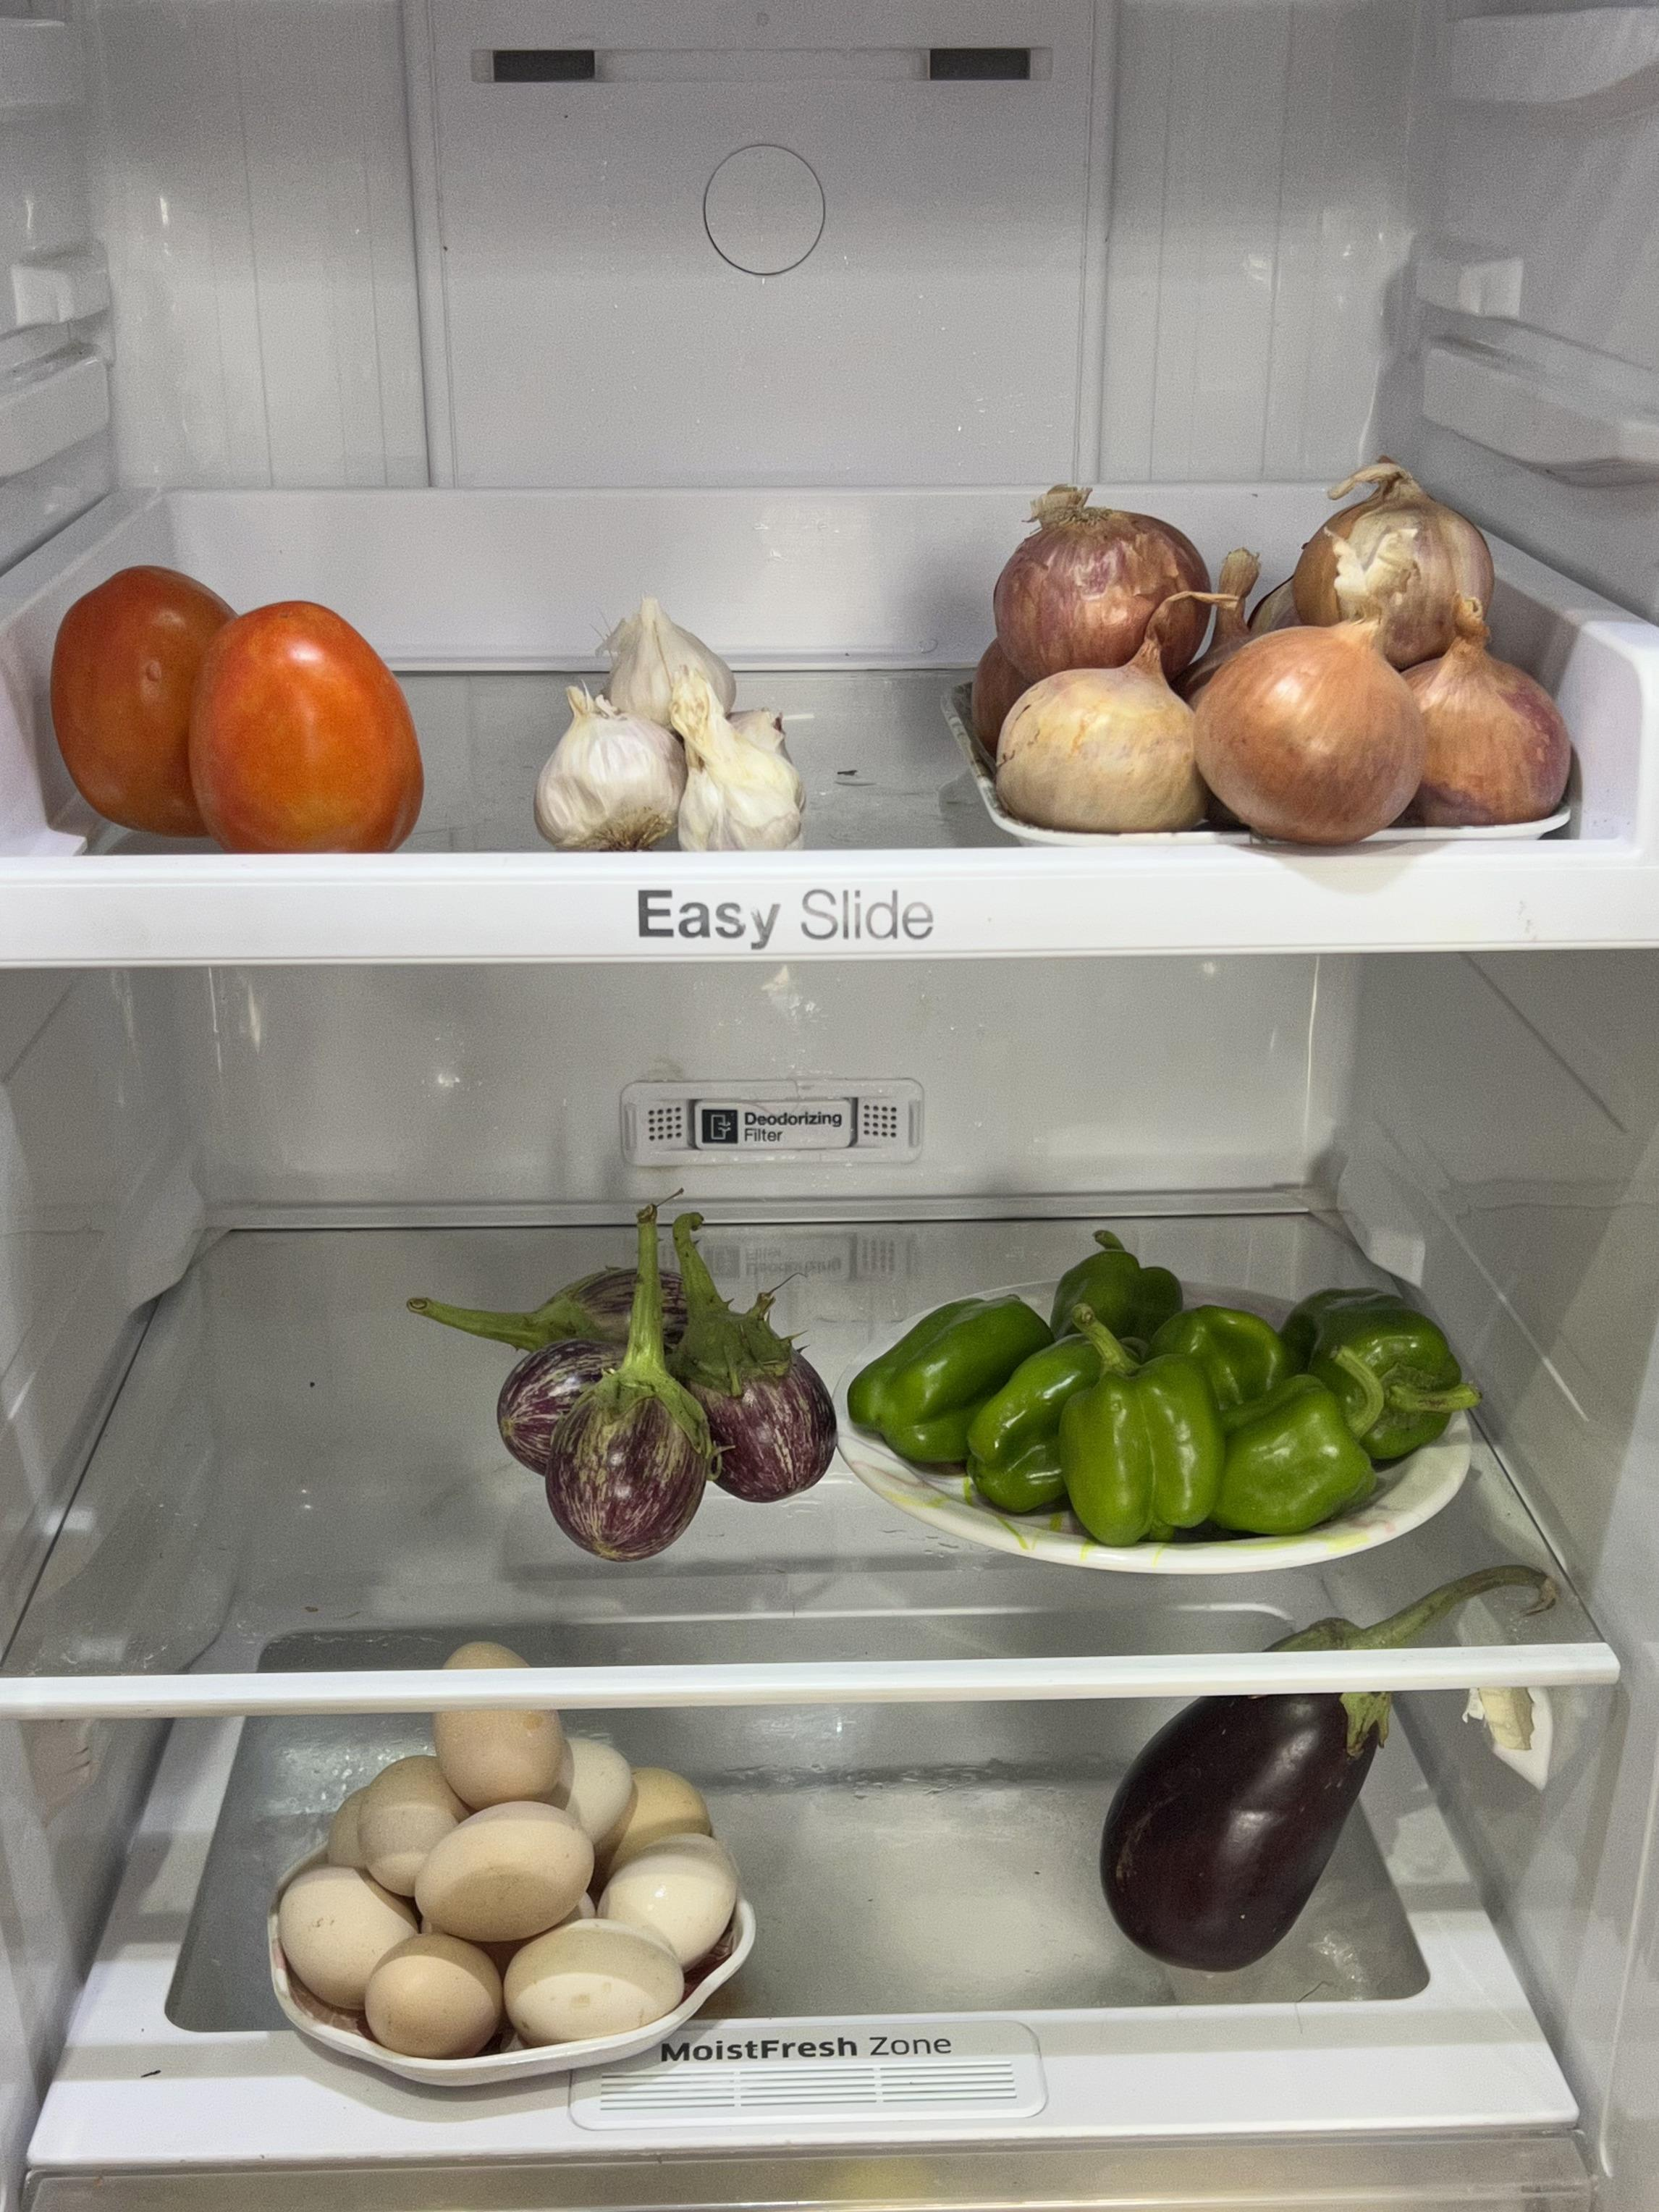bringal: (500, 1249, 836, 1557), (1091, 1686, 1412, 1979)
capsicum: (852, 1249, 1509, 1540)
egg: (258, 1700, 746, 2052)
garlic: (538, 596, 810, 855)
onion: (967, 481, 1567, 836)
tomato: (40, 550, 420, 859)
